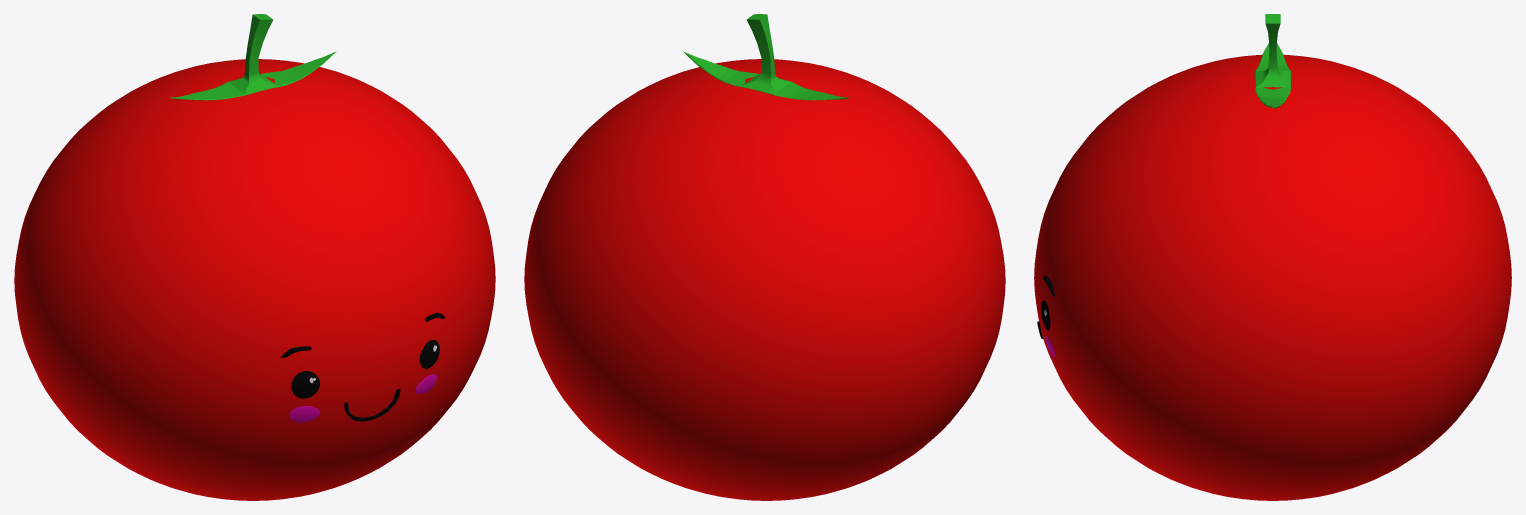
File: Jason.fbx
3 renders of one model, left to right at view 1: azimuth 30°, elevation 25°; view 2: azimuth 150°, elevation 25°; view 3: azimuth 270°, elevation 25°, orthographic.
Parts seen in each view (by area): view 1: pSphere1, pCube1, pSphere11, yanaklar; view 2: pSphere1, pCube1; view 3: pSphere1, pCube1.
Part boxes in pixels (x1,y1,x2,y2): pSphere1: [14, 59, 495, 500]; pCube1: [169, 14, 336, 100]; pSphere11: [291, 340, 439, 398]; yanaklar: [289, 374, 437, 422]; pSphere1: [524, 59, 1005, 500]; pCube1: [683, 14, 850, 100]; pSphere1: [1034, 54, 1511, 500]; pCube1: [1254, 14, 1291, 108].
Bounding box in the file's own units: 7.14 × 7.49 × 7.
